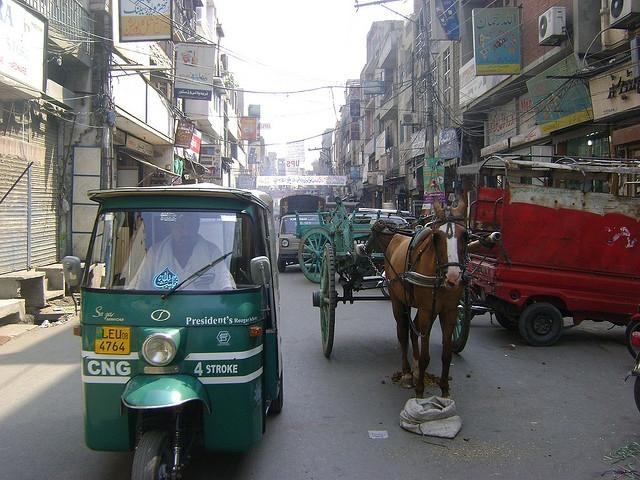car: (348, 214, 407, 224)
truck: (471, 154, 640, 343), (278, 194, 326, 274)
